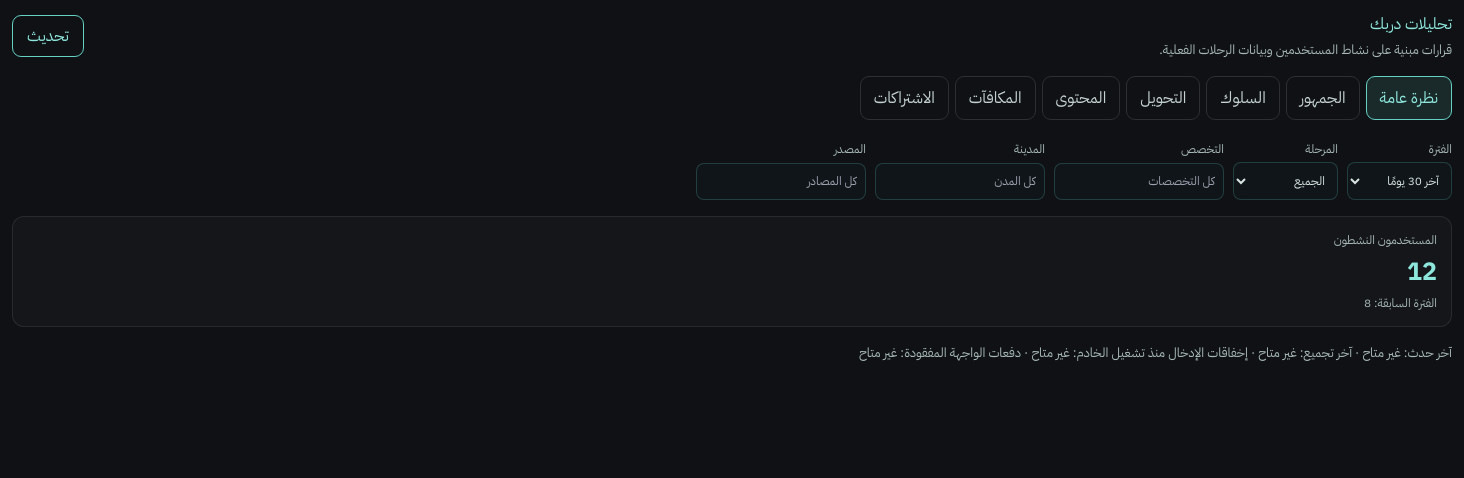
Test: Admin Analytics V2 › loads only the selected tab and defaults to the last 30 days
Expected: the text "المستخدمون النشطون" is shown, [1334,230,1437,248]
Click the button "الجمهور".
click(1323, 98)  # box [1286,76,1360,120]
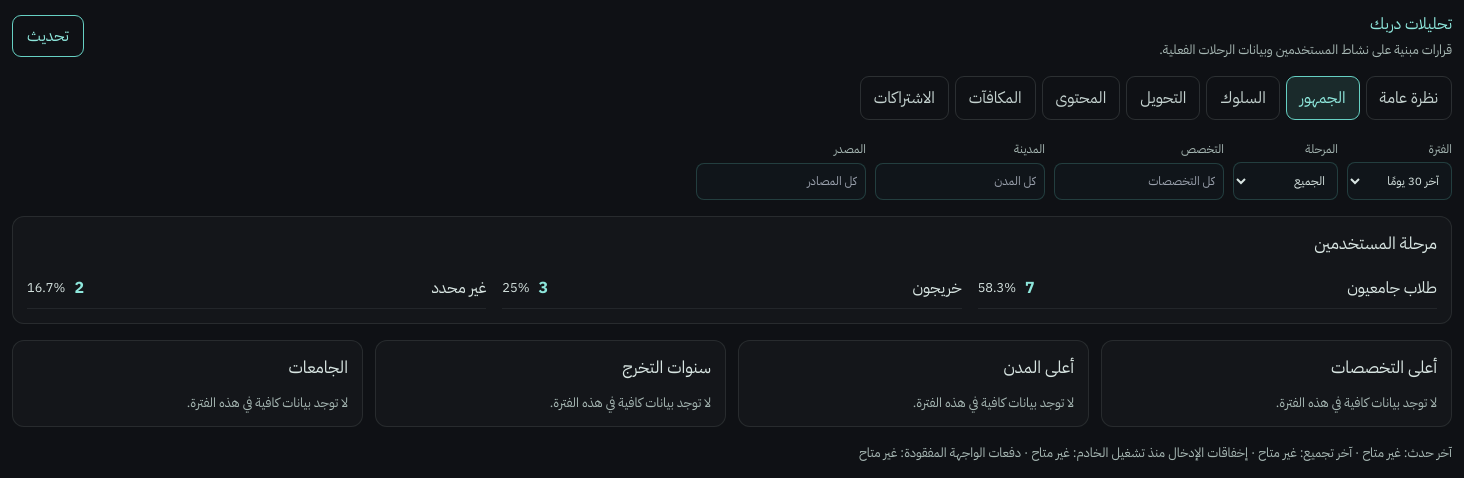
Now the text "طلاب جامعيون" is shown, box [1347,276,1437,300]
